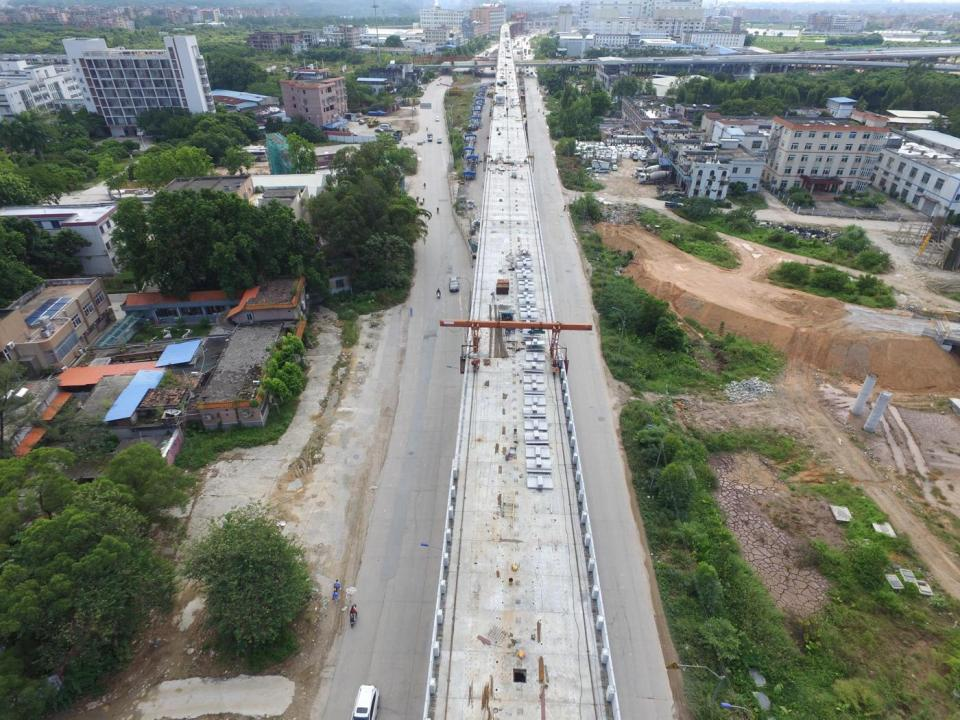bus: (286, 146, 363, 174), (226, 145, 268, 162)
car: (347, 683, 379, 720), (448, 276, 460, 292), (594, 167, 610, 173), (639, 155, 647, 161), (612, 164, 618, 171), (358, 120, 366, 125), (375, 129, 384, 133), (632, 156, 638, 161), (437, 137, 441, 143), (436, 116, 440, 121)
truck: (664, 201, 682, 208), (368, 110, 388, 116), (393, 130, 402, 142), (427, 132, 433, 142)
van: (379, 124, 390, 130), (382, 122, 390, 128), (354, 112, 362, 116), (437, 82, 440, 85)
